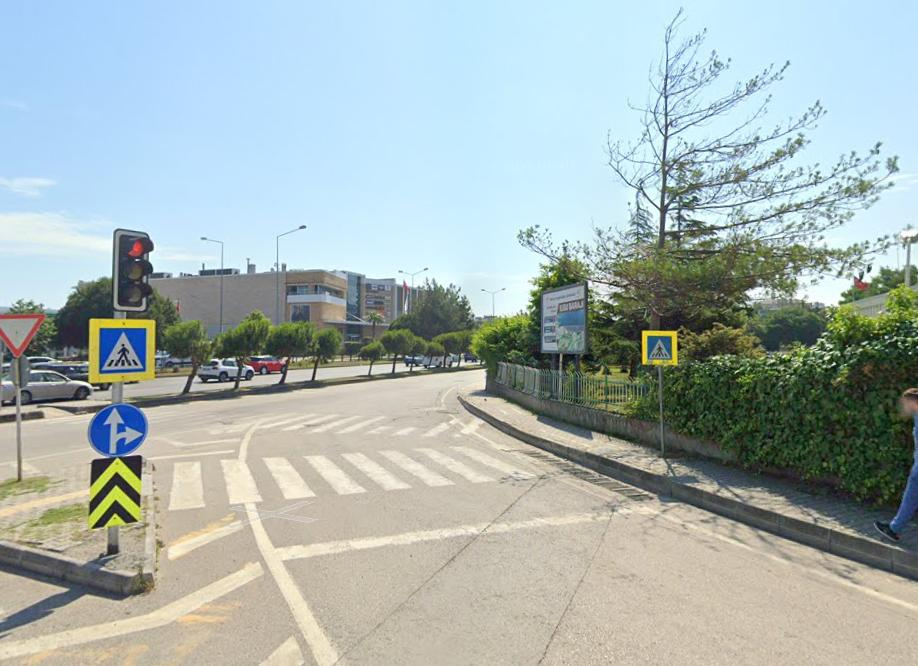redlight: (114, 226, 152, 312)
